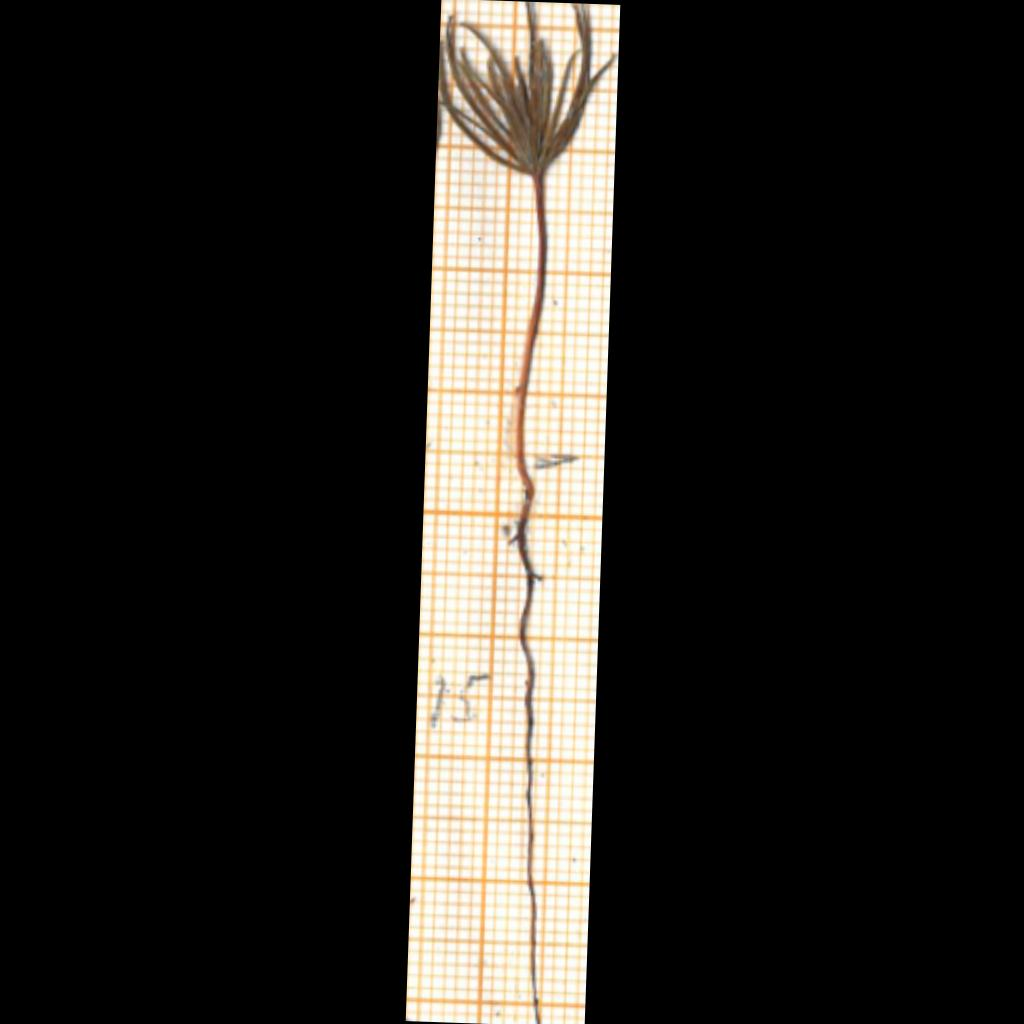flowerPinus: (439, 2, 591, 174)
rootPinus: (517, 482, 541, 1023)
stemPinus: (515, 177, 546, 498)
